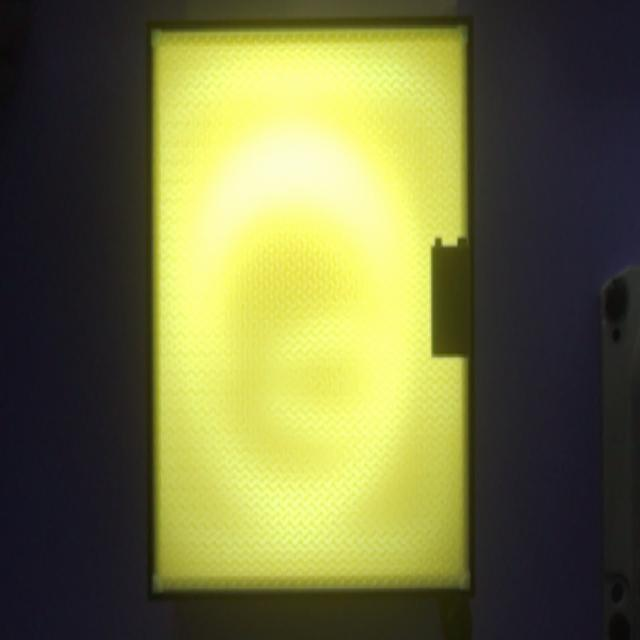bateria: (430, 236, 469, 357)
mesa: (148, 17, 474, 602)
